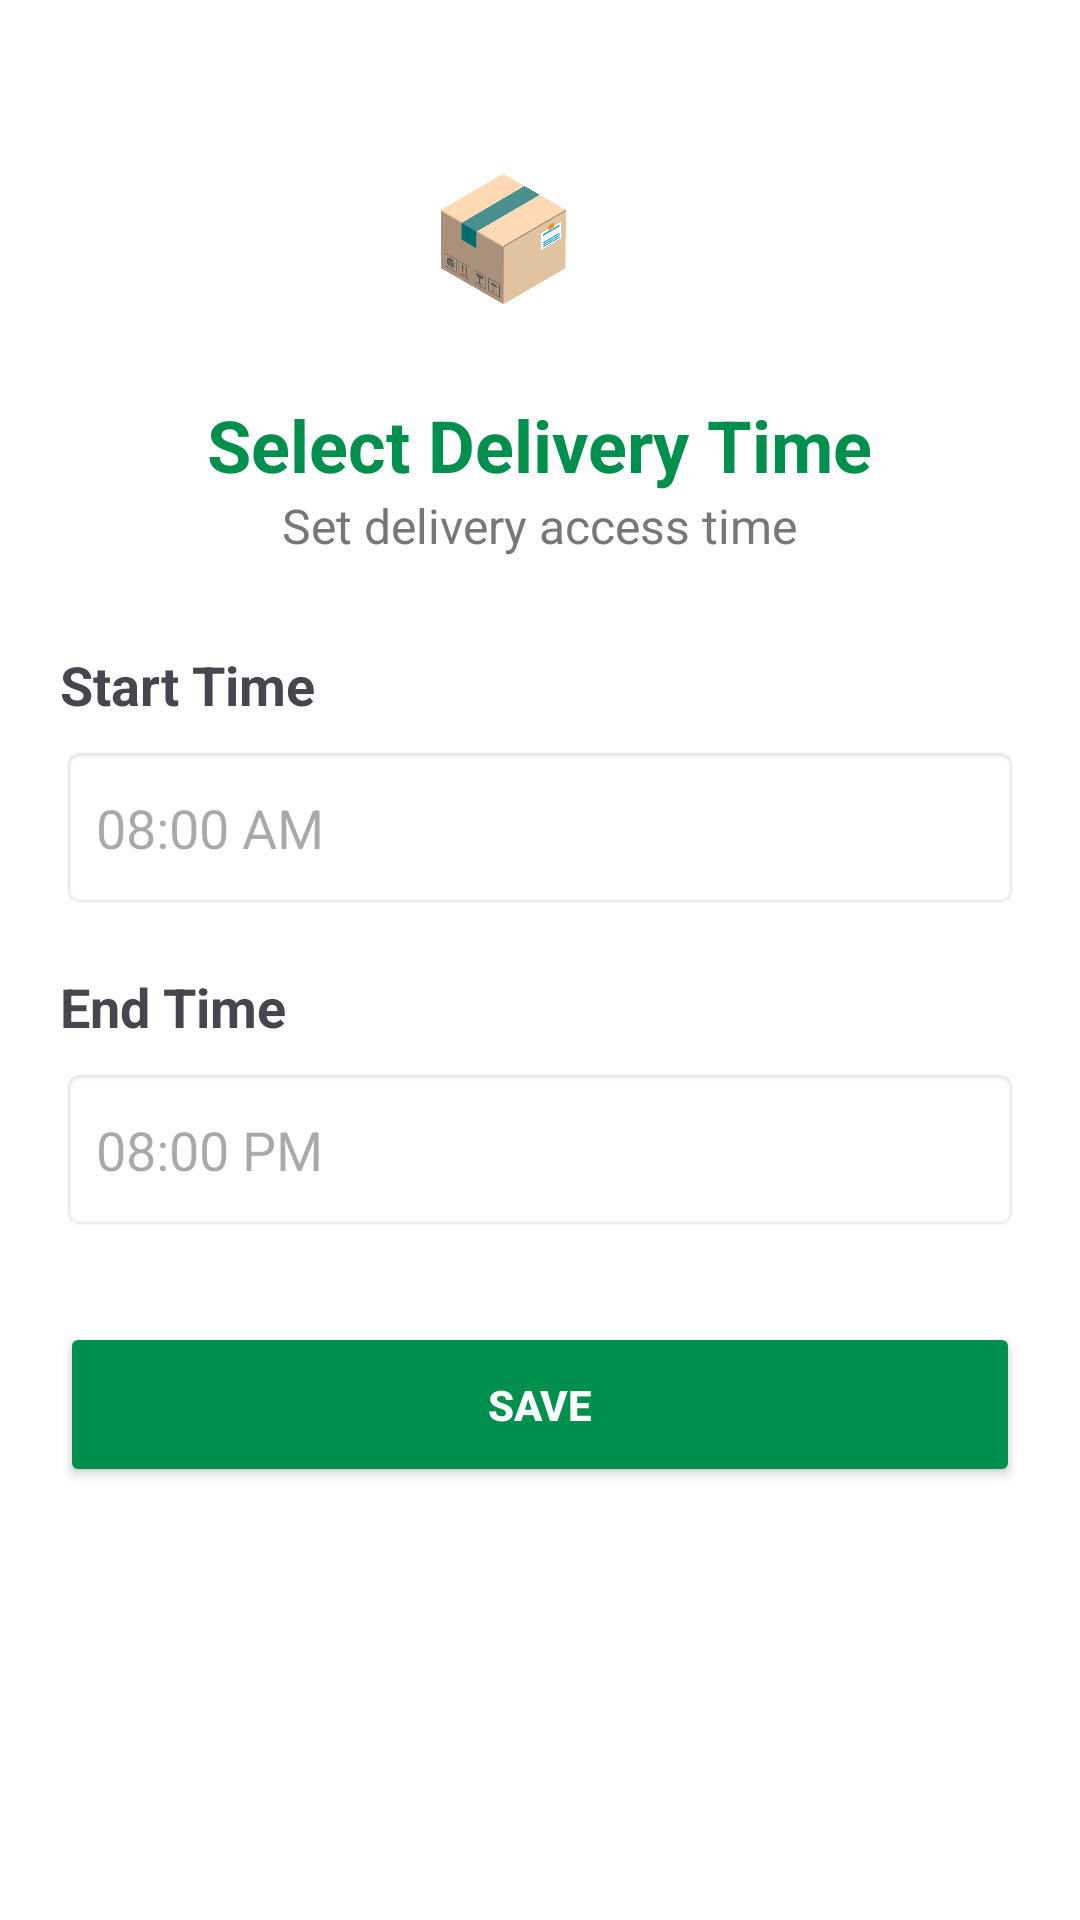

Icon bounding boxes for this 1080 × 1920 phone screenshot, format (x1, y1, x2, y2):
Delivery Box: (441, 174, 566, 304)
